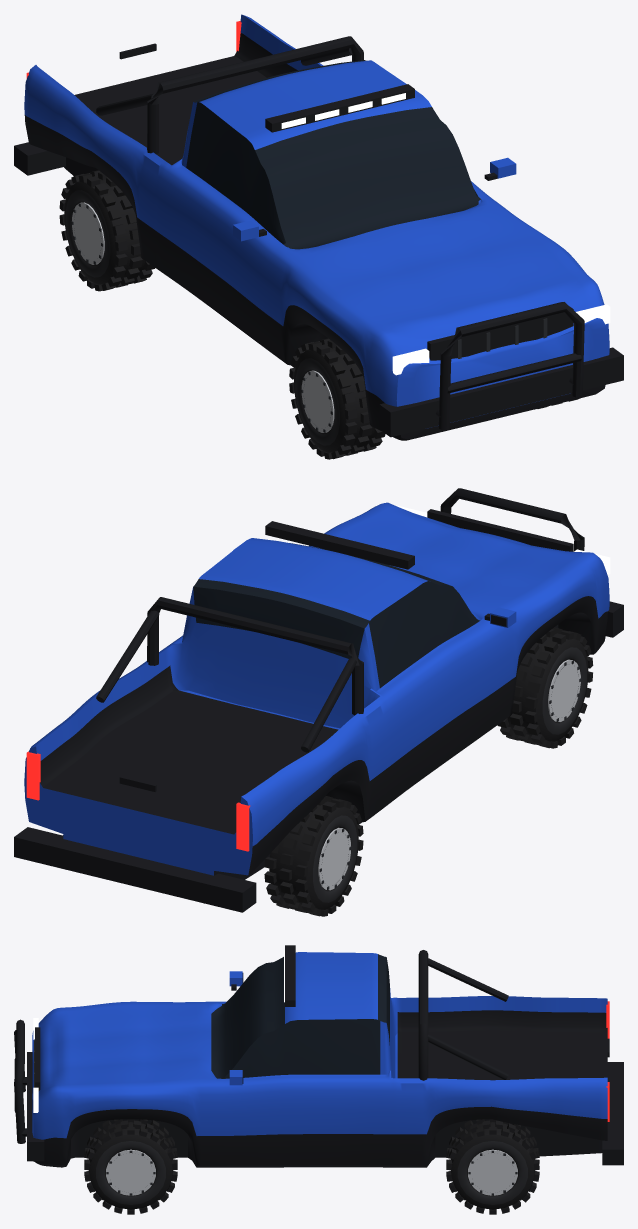
Rendered from ridge.glb.
The picture shows the model from 3 angles, top to bottom: view 1: azimuth 30°, elevation 25°; view 2: azimuth 150°, elevation 25°; view 3: azimuth 270°, elevation 25°; orthographic projection. The views are drawn at different scales.
Parts seen in each view (by area): view 1: body, wheel_RR, wheel_FR; view 2: body, wheel_RR, wheel_FR; view 3: body, wheel_FL, wheel_RL.
Boxes of the visible parts, x1,y1,x2,y2 form: body: (14, 14, 623, 440); wheel_RR: (59, 170, 154, 291); wheel_FR: (289, 338, 385, 459); body: (14, 488, 623, 912); wheel_RR: (264, 796, 363, 916); wheel_FR: (497, 627, 593, 748); body: (14, 945, 623, 1167); wheel_FL: (84, 1119, 177, 1214); wheel_RL: (446, 1119, 539, 1214).
Bounding box in the file's own units: 2.31 × 1.99 × 5.63.
